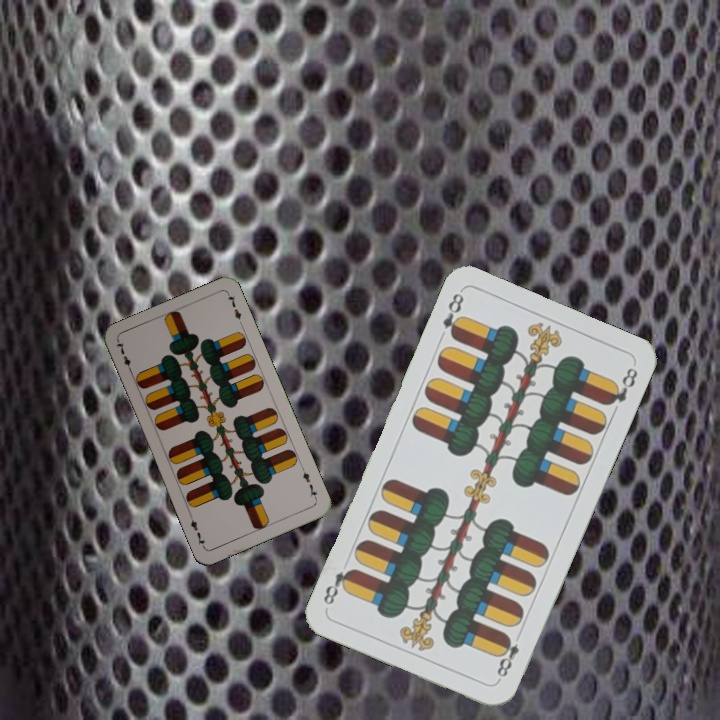E7: (113, 337, 135, 376), (298, 464, 320, 502)
E8: (492, 631, 522, 684), (438, 288, 467, 342)
